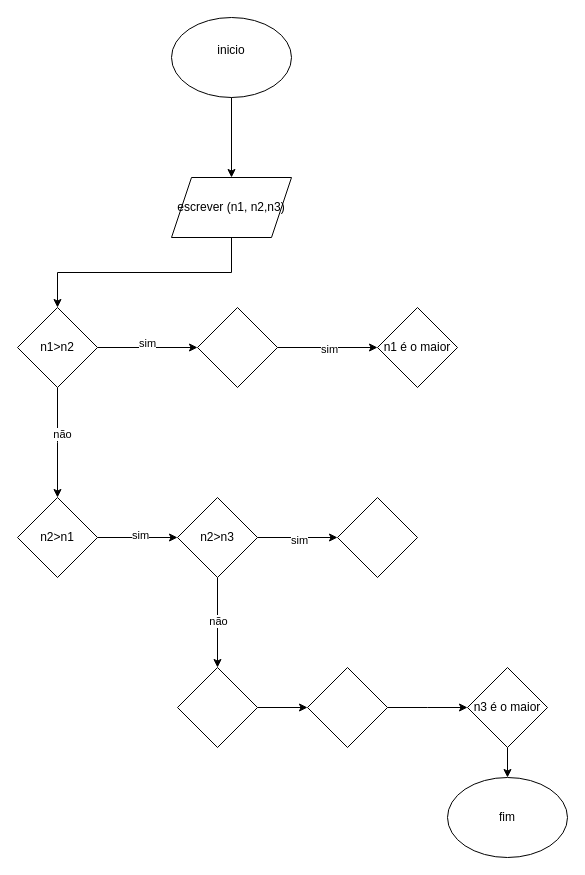
This 585x875 diagram has some shape labels left out. The shapes that lost their labels are listed below. From the top down, each one's centre as x and y in pixels, then its label:
At [237,347]: "n1>n3".
At [377,537]: "n2 é o maior".
At [217,707]: "n2<n3".
At [347,707]: "n3>n1".
